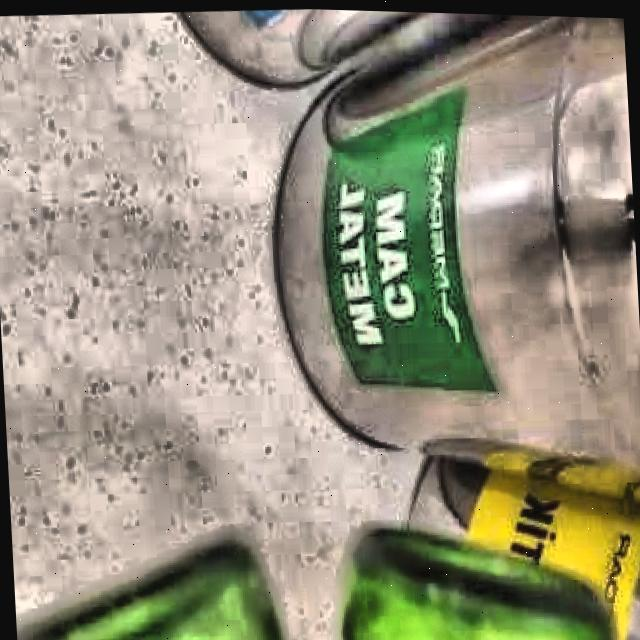glass: (343, 528, 611, 640)
